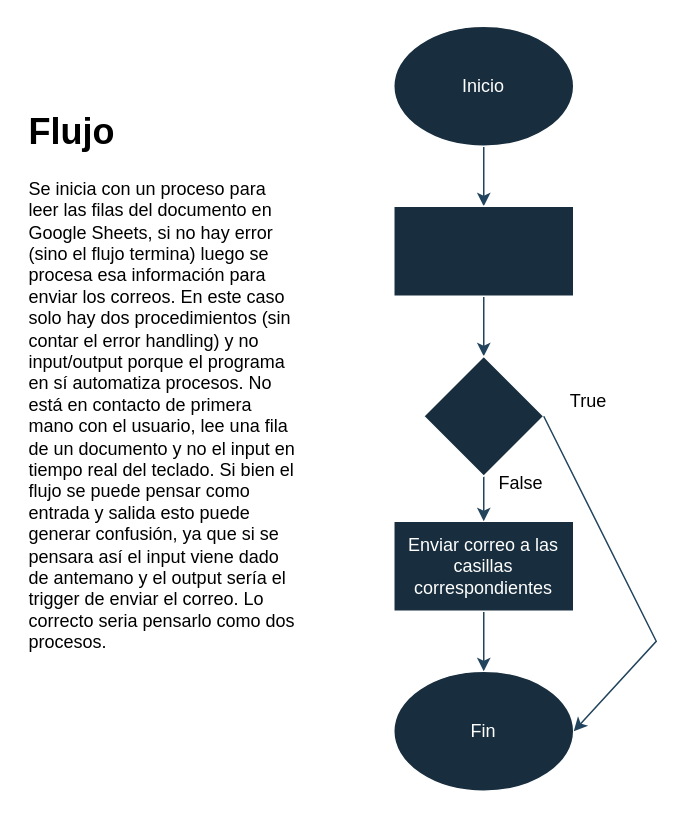
Some shapes in this 695 by 818 pixel diagram are drawn without their labels. The box of each missing label's shape, as (x1, y1, x2, y2) in pixels:
Error?: (422, 355, 544, 476)
Obtener filas de Google Sheets: (392, 205, 574, 296)
